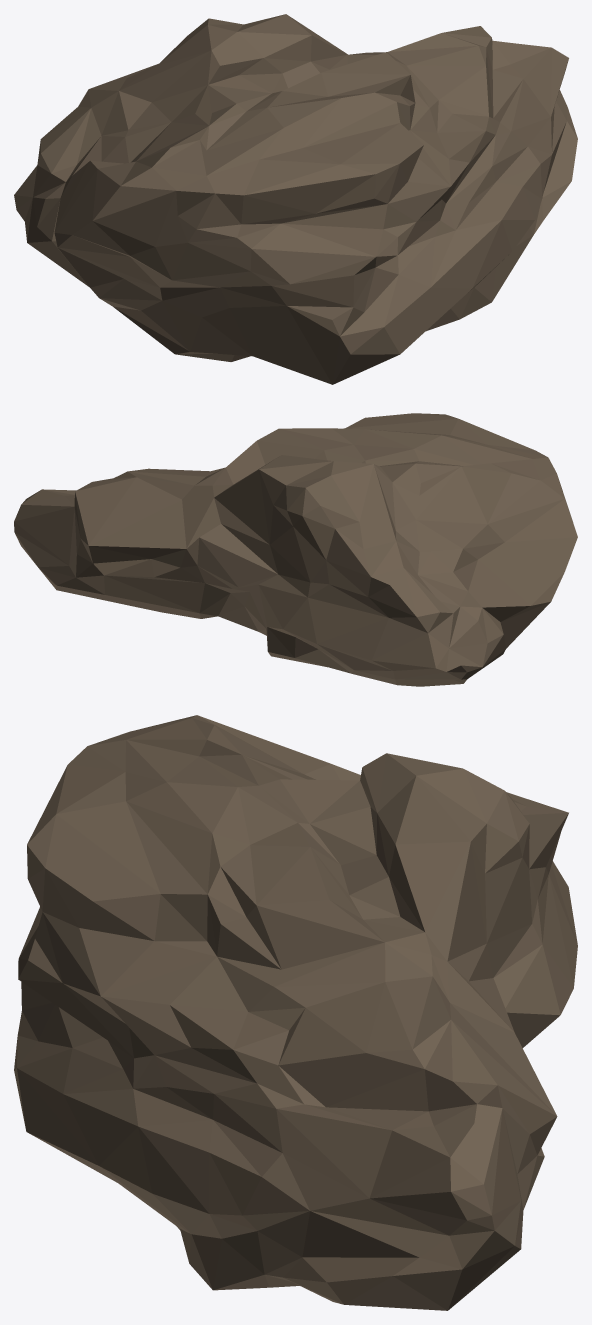
The model's file is desert_SM_Env_Rock_06.gltf.
3 renders of one model, top to bottom at view 1: azimuth 30°, elevation 25°; view 2: azimuth 150°, elevation 25°; view 3: azimuth 270°, elevation 25°, orthographic. The views are drawn at different scales.
Visible parts, largest first — view 1: SM_Env_Rock_06; view 2: SM_Env_Rock_06; view 3: SM_Env_Rock_06.
Boxes of the visible parts, bbox=[...] form: SM_Env_Rock_06: bbox=[14, 14, 577, 384]; SM_Env_Rock_06: bbox=[14, 413, 577, 686]; SM_Env_Rock_06: bbox=[14, 715, 577, 1310].
Size of the model in its own units: 4.26 by 2.04 by 2.55.
Materials: 1 (1 with a texture image).
